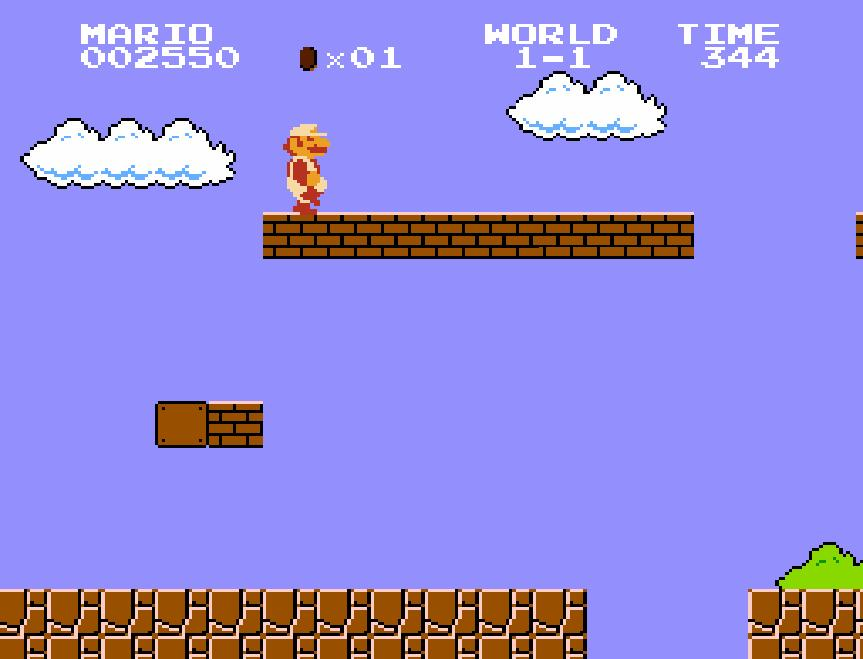fire_mario: (278, 118, 336, 216)
